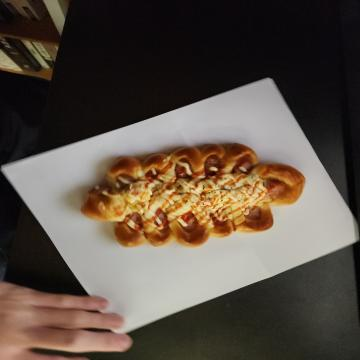pizza_bread: (142, 56, 248, 282)
